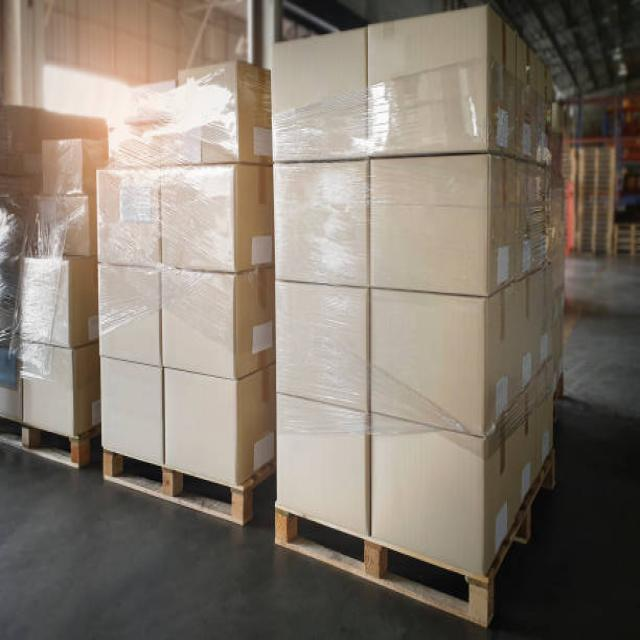Wooden-Pallets: (265, 436, 564, 634), (92, 435, 257, 531)
